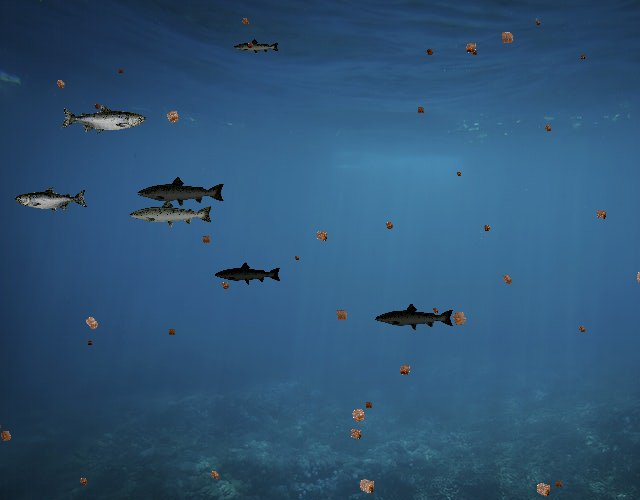Fish: (136, 175, 226, 208), (128, 198, 214, 229), (60, 104, 146, 135), (374, 302, 455, 331), (15, 186, 88, 213), (214, 261, 282, 286), (233, 39, 280, 56)
Pellet: (495, 25, 519, 49), (310, 224, 333, 247), (497, 269, 517, 289), (51, 75, 70, 94), (237, 14, 253, 30), (362, 398, 376, 412), (91, 101, 104, 114), (454, 168, 464, 178)
